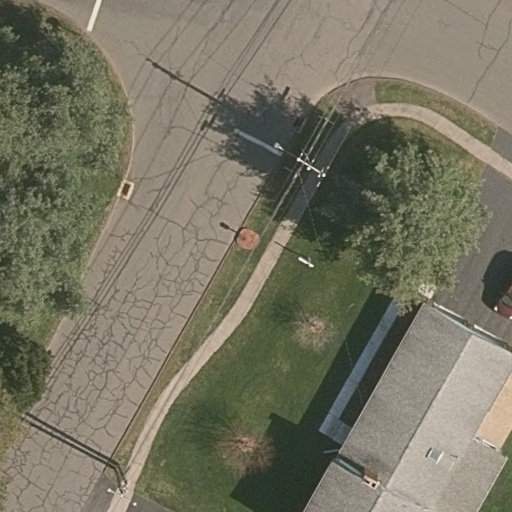DT: (276, 137, 332, 189), (99, 460, 145, 511)
